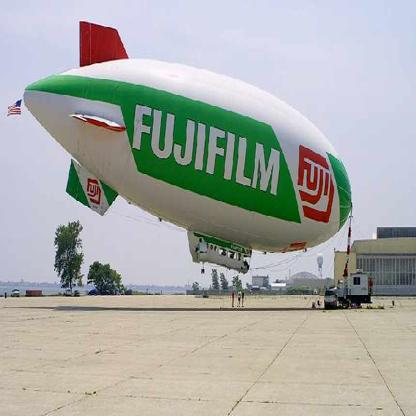Airship: (18, 20, 354, 275)
